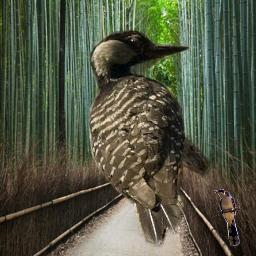Cuckoo: (212, 189, 240, 246)
Woodpecker: (88, 28, 216, 251)
